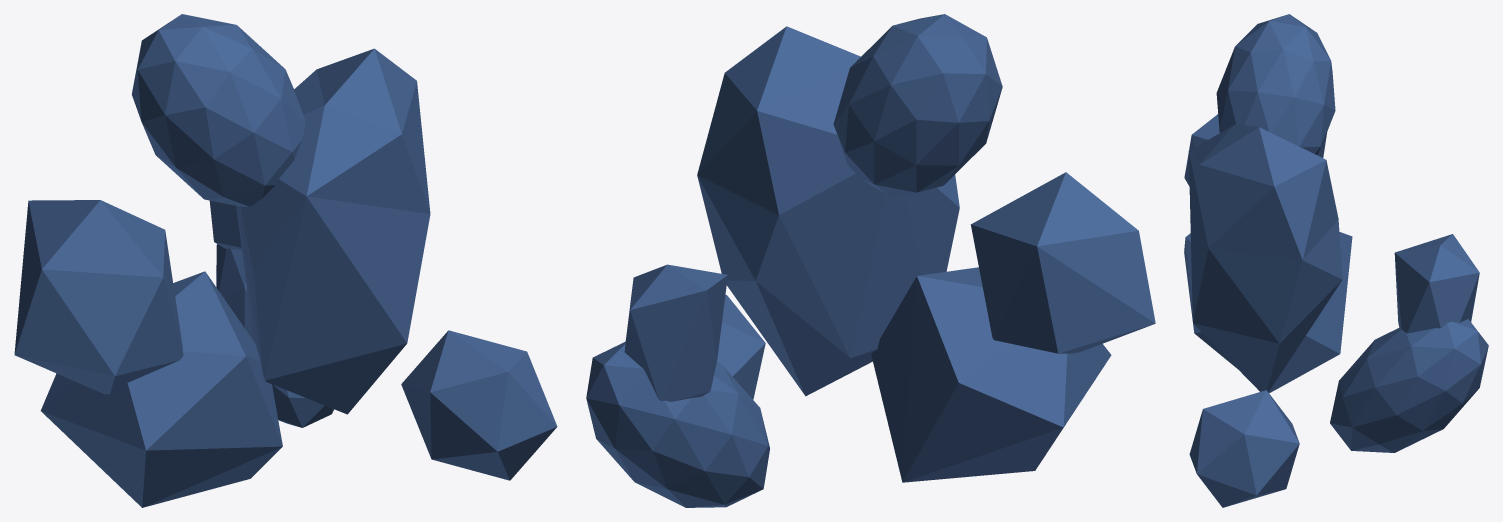
The model's file is tree-winter-leaves-1-039.glb.
The picture shows the model from 3 angles, left to right: view 1: azimuth 30°, elevation 25°; view 2: azimuth 150°, elevation 25°; view 3: azimuth 270°, elevation 25°; orthographic projection. The views are drawn at different scales.
Parts seen in each view (by area): view 1: TREE 1.005_183; view 2: TREE 1.005_183; view 3: TREE 1.005_183.
Boxes of the visible parts, x1,y1,x2,y2 form: TREE 1.005_183: (14, 14, 557, 507); TREE 1.005_183: (586, 14, 1155, 507); TREE 1.005_183: (1184, 14, 1488, 507).
Bounding box in the file's own units: 1.17 × 1.08 × 0.7756.
